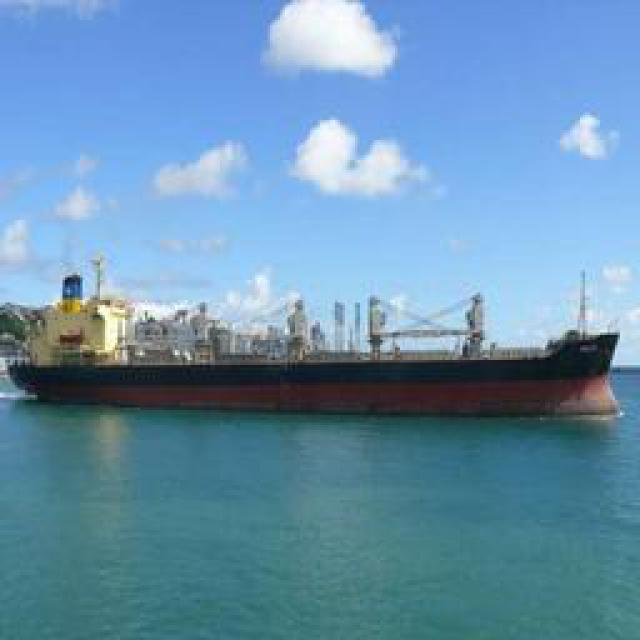Ship: (9, 276, 614, 416)
